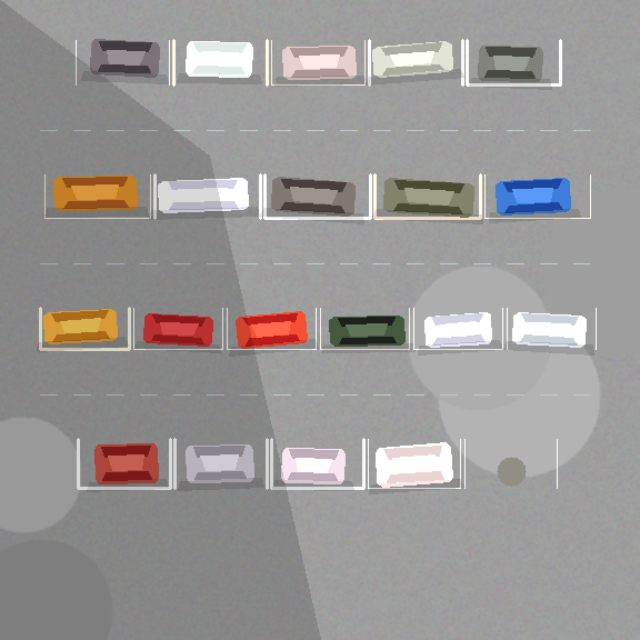space-empty: (464, 439, 557, 488)
space-occupied: (44, 174, 150, 218), (154, 174, 260, 218), (264, 174, 370, 218), (374, 174, 480, 218), (484, 174, 590, 218), (174, 439, 267, 488), (78, 439, 170, 488), (271, 439, 363, 488), (368, 439, 460, 488), (173, 40, 267, 84), (76, 40, 169, 84), (271, 40, 364, 84), (369, 40, 462, 84), (467, 40, 560, 84), (40, 308, 129, 349), (133, 308, 222, 349), (227, 308, 316, 349), (320, 308, 409, 349), (413, 308, 502, 349), (507, 308, 596, 349)
